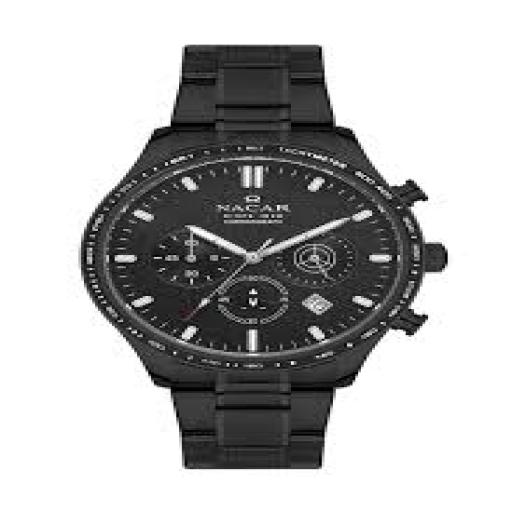KolSaati: (78, 6, 474, 492)
